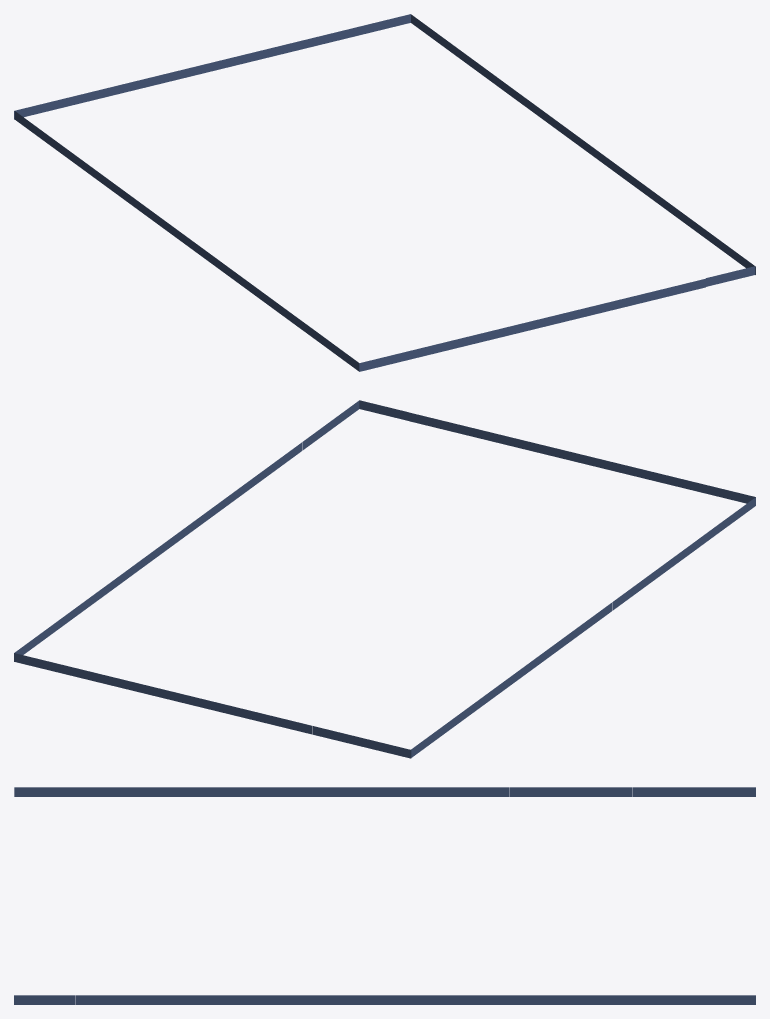
File: cartelloni.fbx
The picture shows the model from 3 angles, top to bottom: view 1: azimuth 30°, elevation 25°; view 2: azimuth 150°, elevation 25°; view 3: azimuth 270°, elevation 25°; orthographic projection. The views are drawn at different scales.
Visible parts, largest first — view 1: no part large enough to name; view 2: no part large enough to name; view 3: cartellone_sponsorA36, cartellone_sponsorB26, cartellone_sponsorA48, cartellone_sponsorA35, cartellone_sponsorB39, cartellone_sponsorB42, cartellone_sponsorB37, cartellone_sponsorB35, cartellone_sponsorB20, cartellone_sponsorA37, cartellone_sponsorB36, cartellone_sponsorA20 (+12 smaller).
Part boxes in pixels (x1,y1,x2,y2): cartellone_sponsorA36: (260,787,323,796); cartellone_sponsorB26: (631,995,694,1004); cartellone_sponsorA48: (384,787,447,796); cartellone_sponsorA35: (323,995,385,1004); cartellone_sponsorB39: (137,995,199,1004); cartellone_sponsorB42: (693,787,755,796); cartellone_sponsorB37: (14,995,75,1004); cartellone_sponsorB35: (447,787,508,796); cartellone_sponsorB20: (570,787,631,796); cartellone_sponsorA37: (509,787,570,796); cartellone_sponsorB36: (385,995,446,1004); cartellone_sponsorA20: (75,995,136,1004).
Bounding box in the file's own units: 1220 × 26.96 × 1836.
